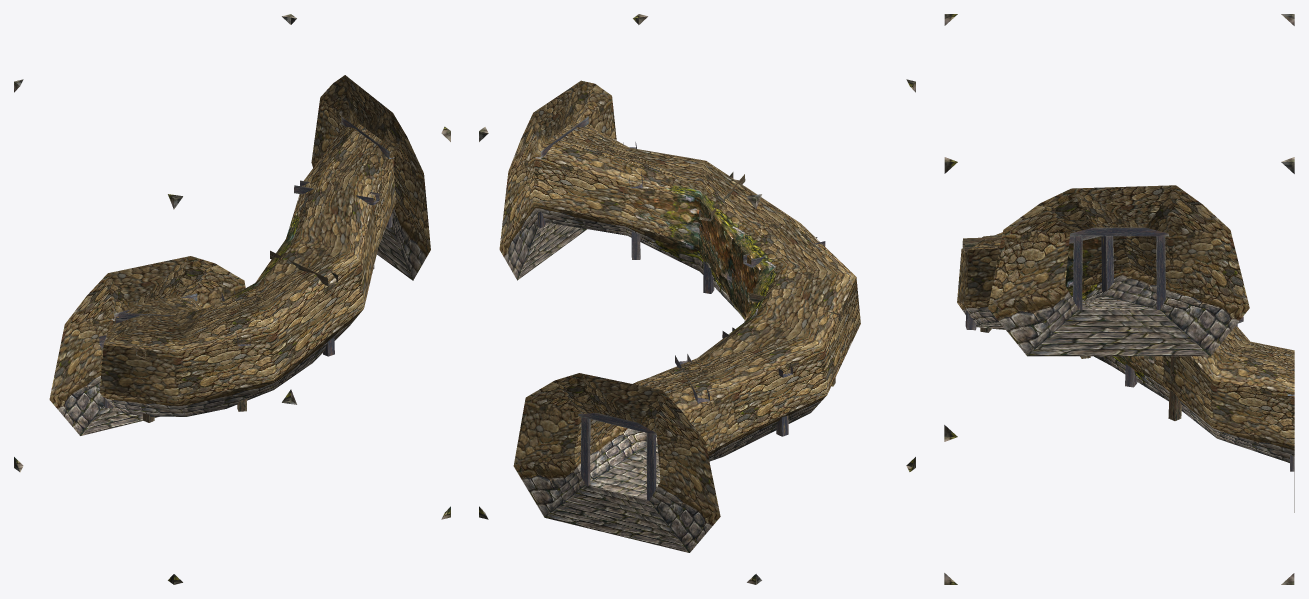
Rendered from Lbm_2o2l.glb.
The picture shows the model from 3 angles, left to right: view 1: azimuth 30°, elevation 25°; view 2: azimuth 150°, elevation 25°; view 3: azimuth 270°, elevation 25°; orthographic projection. The views are drawn at different scales.
Parts seen in each view (by area): view 1: Lbm_2o2l-col; view 2: Lbm_2o2l-col; view 3: Lbm_2o2l-col.
Boxes of the visible parts, x1=… form: Lbm_2o2l-col: x1=14, y1=14, x2=450, y2=584; Lbm_2o2l-col: x1=479, y1=14, x2=915, y2=584; Lbm_2o2l-col: x1=944, y1=14, x2=1294, y2=584.
Size of the model in its own units: 15 by 20 by 15.
Materials: 10 (10 with a texture image).
